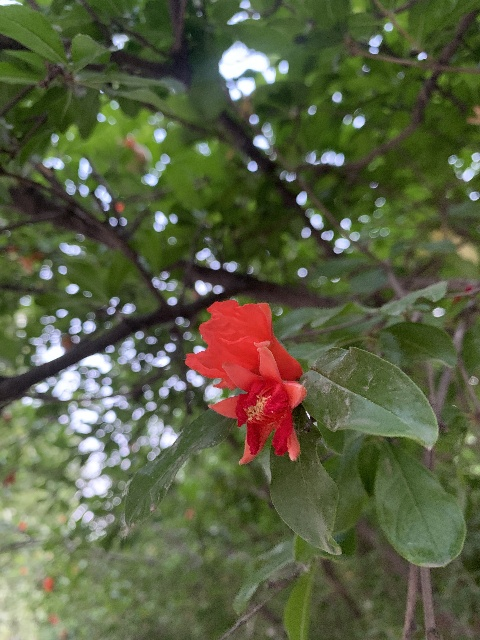flower: (207, 344, 306, 464), (184, 299, 303, 390)
